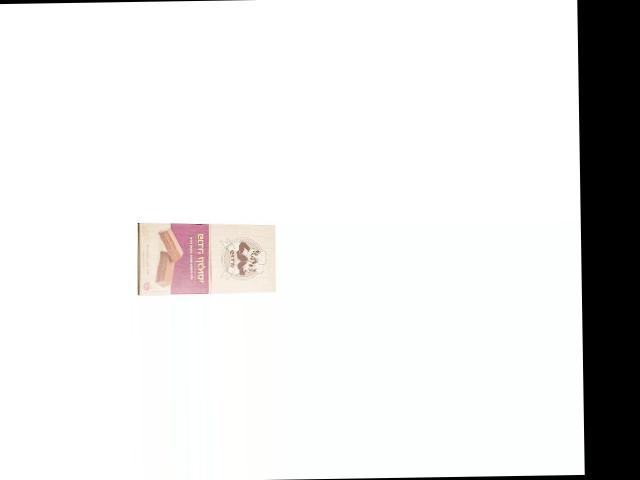chocolate: (136, 218, 277, 293)
